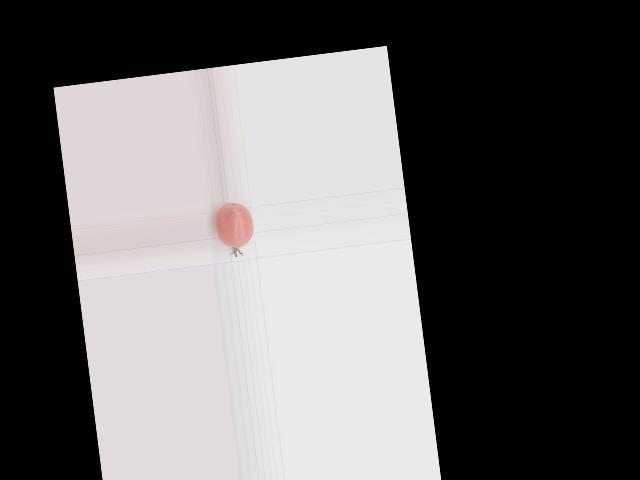tomato: (212, 200, 256, 249)
